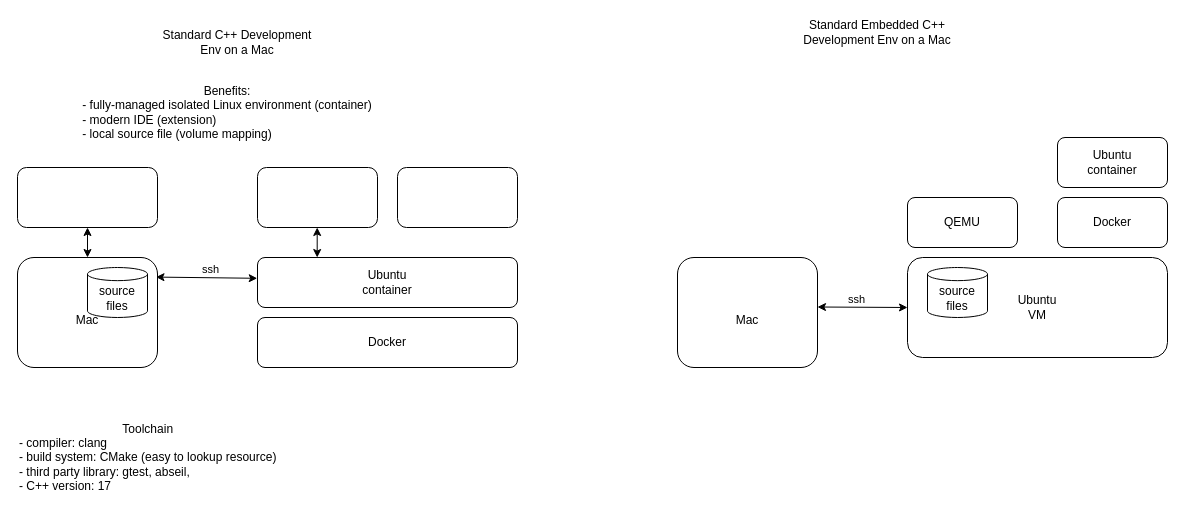
Image size: 1185x524. Some labels were removed from this diagram. Each missing label, with the centre of its shape:
Dev tools git, CMake, clang, gdb server, clangd: [457,197]
VSCode Client: [87,197]
VSCode Remote: [317,197]
